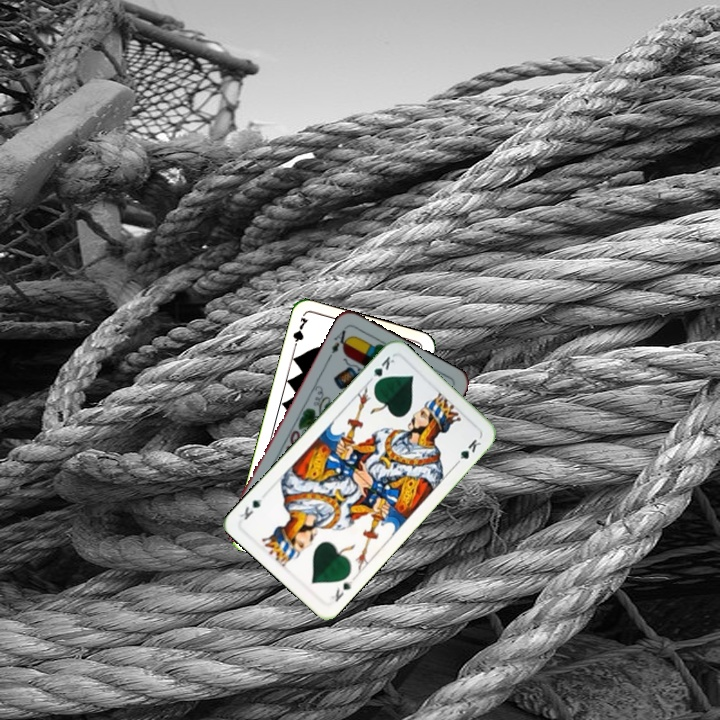EA: (324, 323, 353, 361)
G7: (289, 313, 311, 353)
GK: (364, 352, 397, 388), (326, 577, 355, 605)
